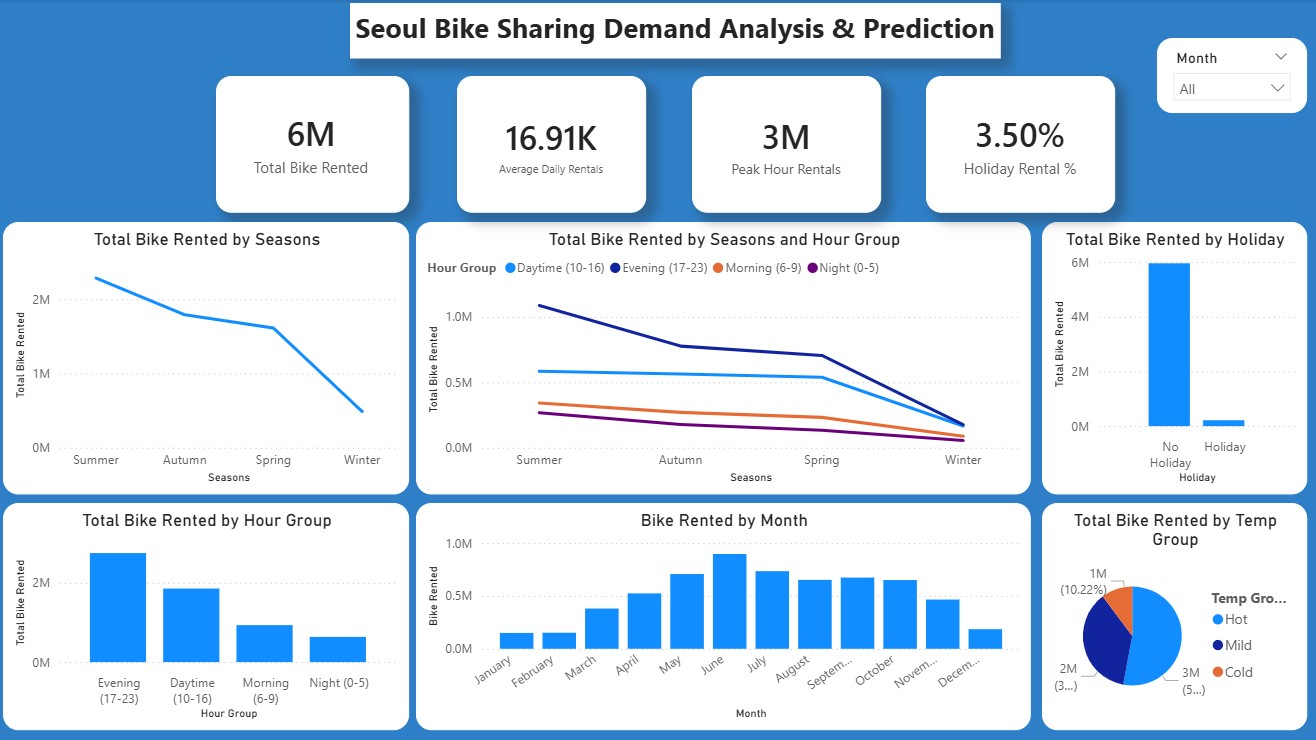

The dashboard page shown, as its layout file describes it:
{"tool":"powerbi","page":{"name":"Page 1","canvas":[1280,720],"ordinal":0},"visuals":[{"type":"textbox","box":[340.4,2.9,633.2,54.5],"z":0},{"type":"cardVisual","fields":{"Data":["SeoulBikeData.Total_Bike_Rented"]},"box":[210.1,73.9,187.7,133.3],"z":1},{"type":"columnChart","fields":{"Category":["SeoulBikeData.Hour Group"],"Y":["SeoulBikeData.Total_Bike_Rented"]},"box":[2.9,489.2,394.9,220.8],"z":2},{"type":"pieChart","fields":{"Category":["SeoulBikeData.Temp Group"],"Y":["SeoulBikeData.Total_Bike_Rented"]},"box":[1013.5,489.2,257.8,220.8],"z":3},{"type":"lineChart","fields":{"Category":["SeoulBikeData.Seasons"],"Y":["SeoulBikeData.Total_Bike_Rented"]},"box":[2.9,215.9,394.9,264.6],"z":4},{"type":"columnChart","fields":{"Category":["SeoulBikeData.Holiday"],"Y":["SeoulBikeData.Total_Bike_Rented"]},"box":[1013.5,215.9,257.8,264.6],"z":5},{"type":"lineChart","fields":{"Category":["SeoulBikeData.Seasons"],"Series":["SeoulBikeData.Hour Group"],"Y":["SeoulBikeData.Total_Bike_Rented"]},"box":[404.6,215.9,598.2,264.6],"z":6},{"type":"cardVisual","fields":{"Data":["SeoulBikeData.Avg Daily Rentals"]},"box":[444.5,73.9,183.8,133.3],"z":8},{"type":"slicer","fields":{"Values":["SeoulBikeData.Month"]},"box":[1125.3,37,145.9,72.9],"z":9},{"type":"clusteredColumnChart","fields":{"Y":["SeoulBikeData.Total_Bike_Rented"],"Category":["SeoulBikeData.Date.Variation.Date Hierarchy.Month"]},"box":[404.6,489.2,598.2,220.8],"z":10},{"type":"cardVisual","fields":{"Data":["SeoulBikeData.Peak Hour Rentals"]},"box":[673.1,73.9,183.8,133.3],"z":11},{"type":"cardVisual","fields":{"Data":["SeoulBikeData.Holiday Rental %"]},"box":[900.7,73.9,183.8,133.3],"z":12}]}

Visuals, with their boxes in screenshot pixels (x1, y1, x2, y2), scaled from the page's 1280x720 canvas onto the 1316x740 screenshot:
textbox: bbox=[350, 3, 1001, 59]
cardVisual - SeoulBikeData.Total_Bike_Rented: bbox=[216, 76, 409, 213]
columnChart - SeoulBikeData.Hour Group x SeoulBikeData.Total_Bike_Rented: bbox=[3, 503, 409, 730]
pieChart - SeoulBikeData.Temp Group x SeoulBikeData.Total_Bike_Rented: bbox=[1042, 503, 1307, 730]
lineChart - SeoulBikeData.Seasons x SeoulBikeData.Total_Bike_Rented: bbox=[3, 222, 409, 494]
columnChart - SeoulBikeData.Holiday x SeoulBikeData.Total_Bike_Rented: bbox=[1042, 222, 1307, 494]
lineChart - SeoulBikeData.Seasons x SeoulBikeData.Hour Group: bbox=[416, 222, 1031, 494]
cardVisual - SeoulBikeData.Avg Daily Rentals: bbox=[457, 76, 646, 213]
slicer - SeoulBikeData.Month: bbox=[1157, 38, 1307, 113]
clusteredColumnChart - SeoulBikeData.Total_Bike_Rented x SeoulBikeData.Date.Variation.Date Hierarchy.Month: bbox=[416, 503, 1031, 730]
cardVisual - SeoulBikeData.Peak Hour Rentals: bbox=[692, 76, 881, 213]
cardVisual - SeoulBikeData.Holiday Rental %: bbox=[926, 76, 1115, 213]
